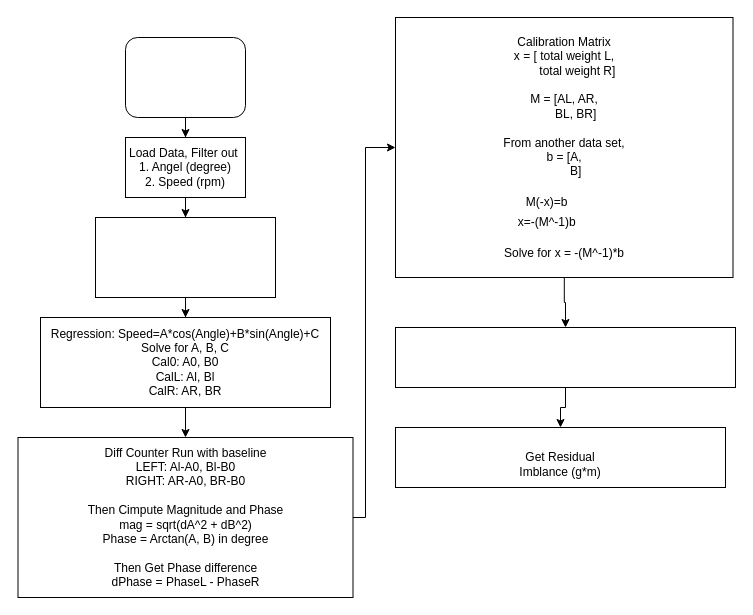
This 753x615 diagram has some shape labels left out. The centre of each missing label's shape, as x and y in pixels:
"Apply to a standard Run, Solve for Changes in Counter weight." belongs at point 565,357.
"Collect 3 data Set 1. Cal0 2. CalL 3. CalR" belongs at point 185,77.
"Compute Angel for each Run 1. Speed 2. Sin(Angle) 3. Cos(Angle" belongs at point 185,257.
